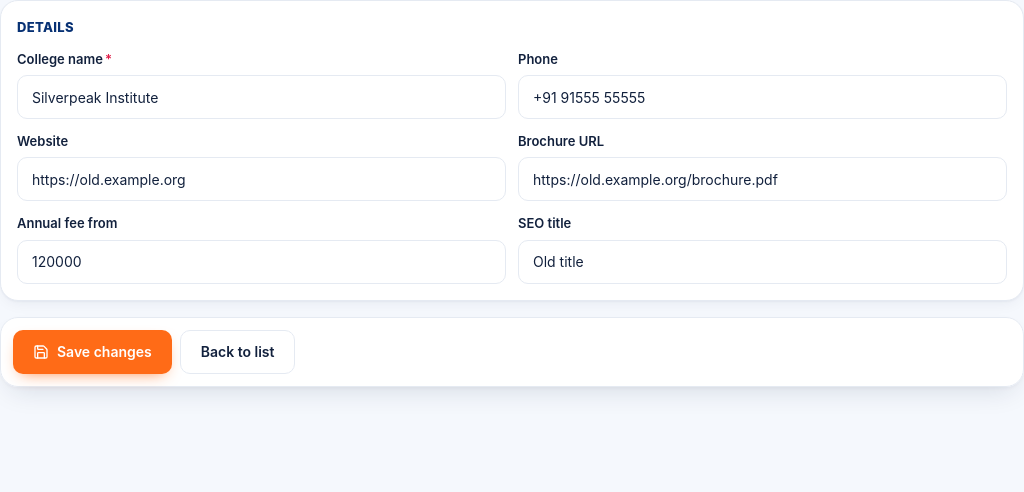
Test: ResourceForm — server field errors on dotted fields › shows a server-side error against the right dotted field
Click the button "Save changes": [92, 352] box [13,330,172,374]
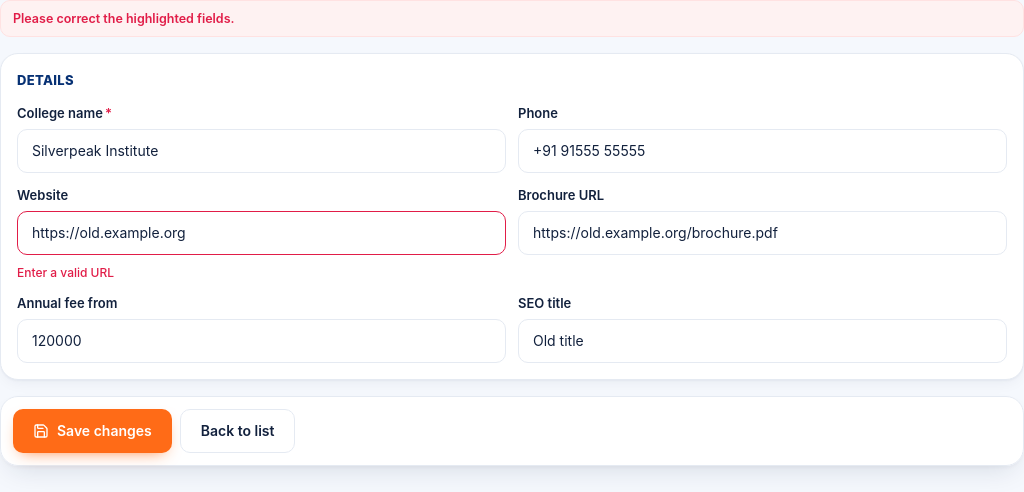
Now the text "Enter a valid URL" is shown, box [17,265,114,280]
